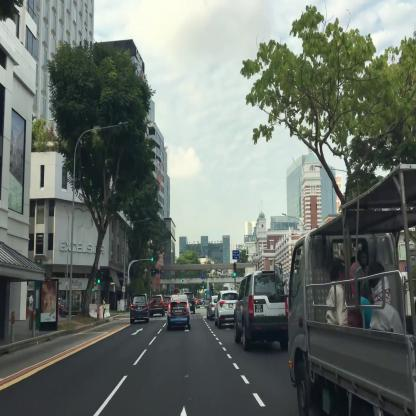green_traffic_light: (233, 262, 236, 278), (97, 268, 100, 283), (152, 258, 156, 260)
